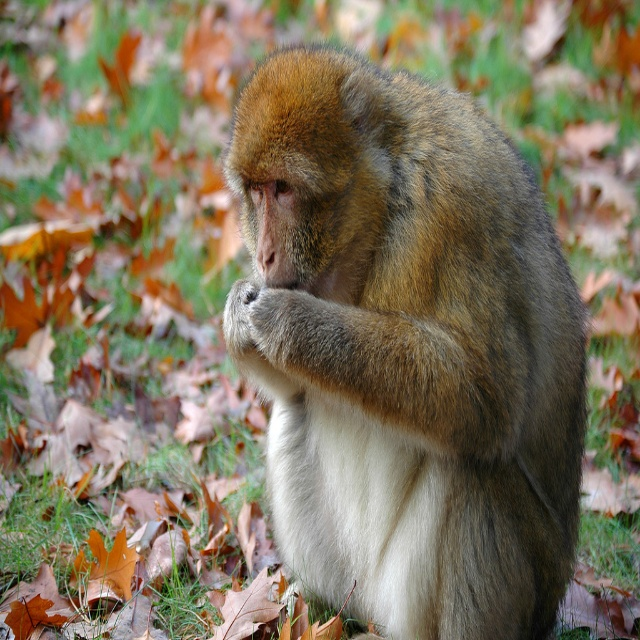Monkey: (206, 36, 589, 625)
